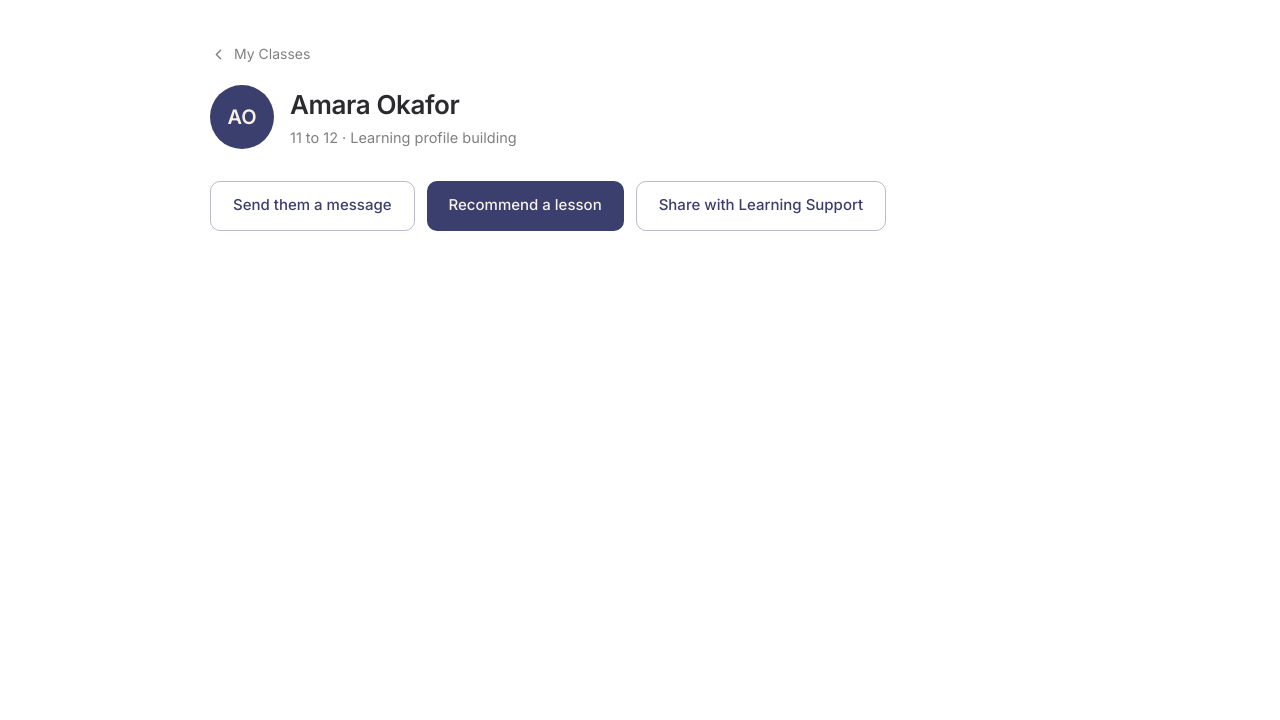
Test: the quiet note › appears once the escalation is stored, with the toast
The image size is (1280, 720).
Click the button "Share with Learning Support". click: point(761, 206)
box: top-left (636, 180), bottom-right (886, 230)
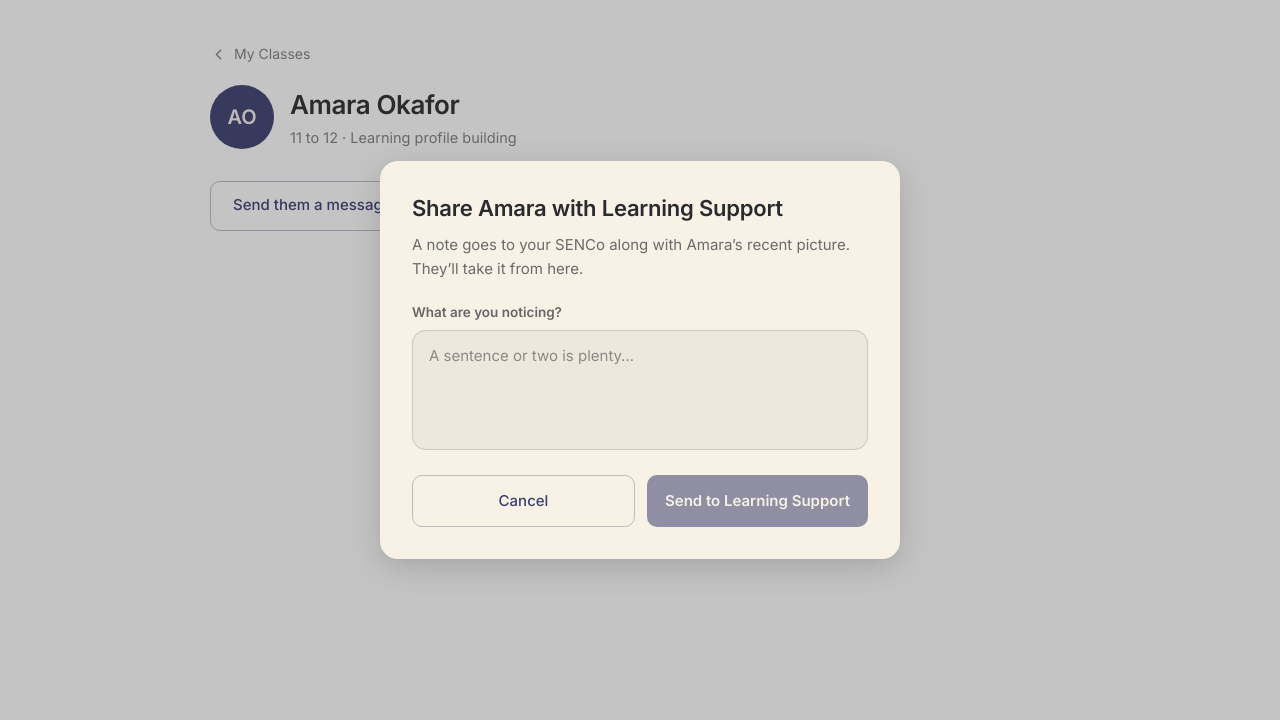
Type "She has gone very quiet in group work." into the text box. click: point(640, 390)
box: top-left (412, 330), bottom-right (868, 450)
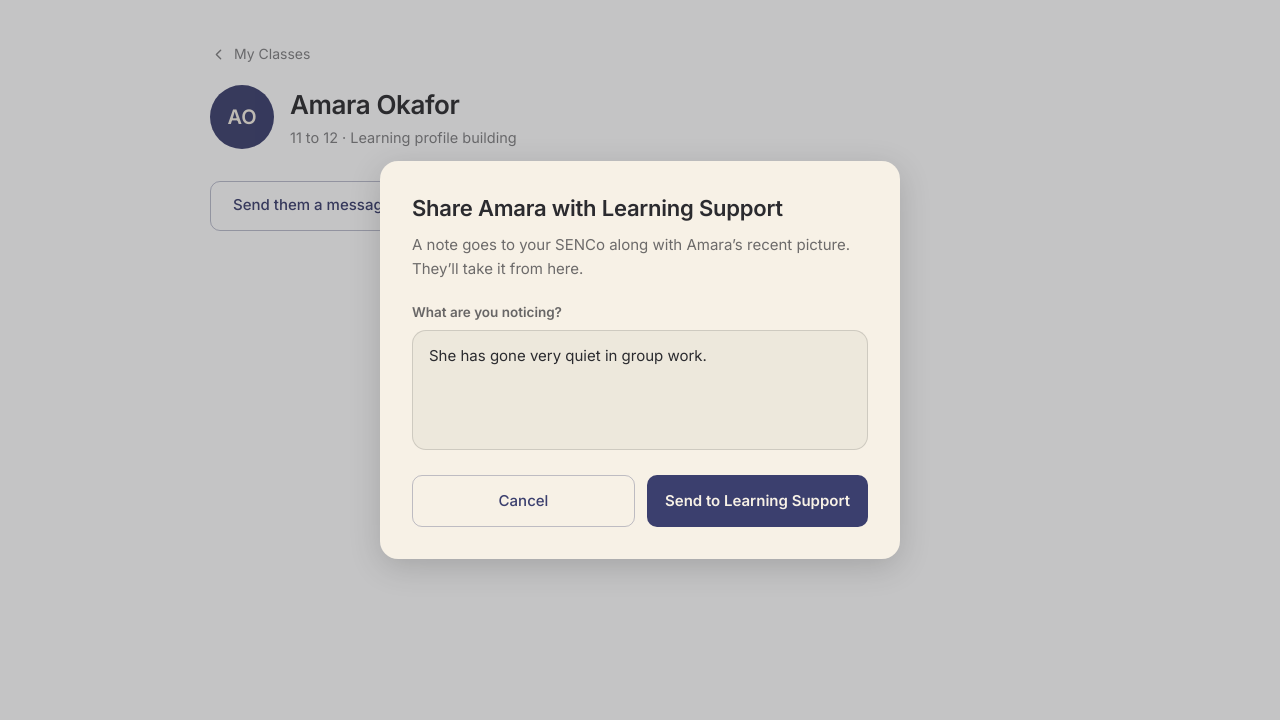
Click the button "Send to Learning Support". click: point(758, 501)
box: top-left (647, 475), bottom-right (868, 527)
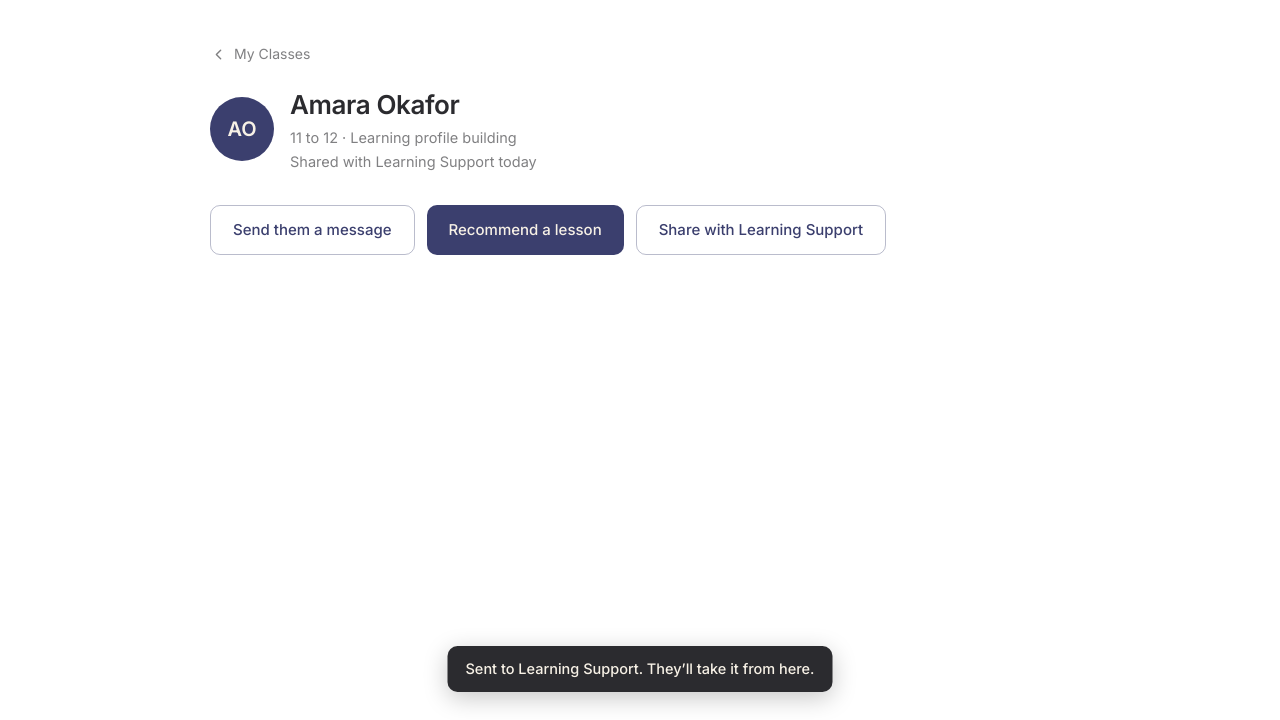
Expected: the text "Shared with Learning Support today" is shown, top-left (290, 151), bottom-right (537, 173)
Expected: the message shows "Sent to Learning Support", top-left (466, 660), bottom-right (814, 677)
Expected: the dialog is gone
